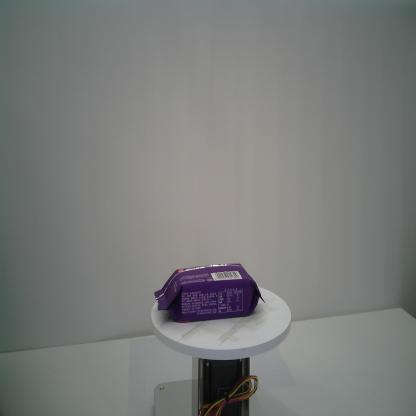Dessert: (154, 261, 265, 325)
